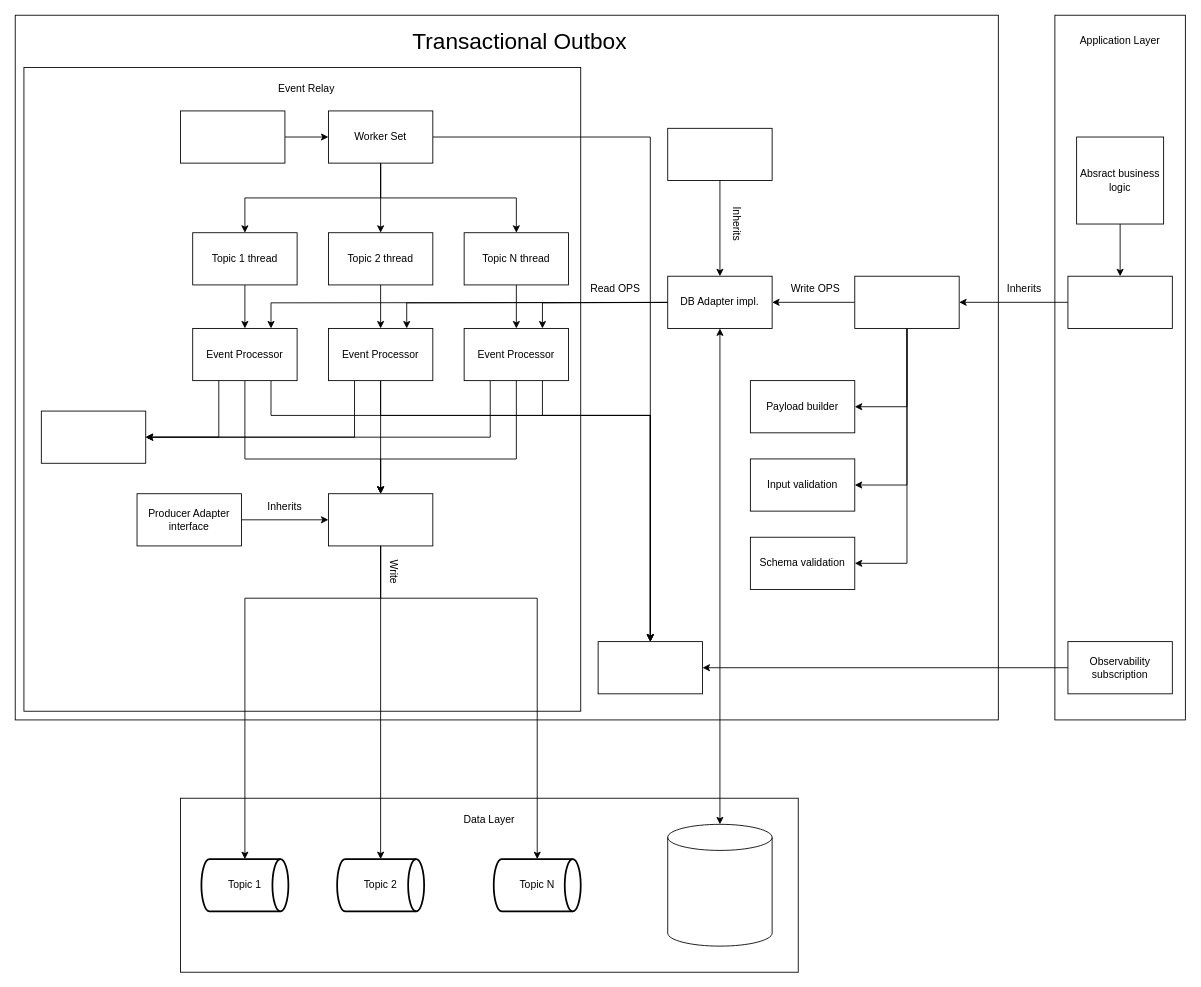
This 1201x987 diagram has some shape labels left out. The shapes that lost their labels are listed below. From the top down, each one's box as (x1, y1, x2, y2) in pixels, then its label:
(180, 110, 285, 163): Runner (Main Process)
(667, 127, 772, 181): DB Adapter interface
(854, 275, 959, 328): Event
(1067, 275, 1172, 328): Event impl.
(40, 410, 146, 463): Failover
(328, 493, 433, 546): Producer Adapter impl.
(597, 641, 703, 694): Monitor
(667, 823, 772, 946): Outbox Events Storage
